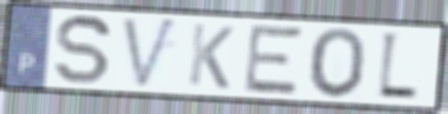E: (240, 22, 306, 97)
K: (185, 21, 237, 92)
L: (375, 29, 422, 104)
O: (308, 25, 369, 101)
S: (53, 13, 115, 87)
V: (120, 15, 181, 92)
